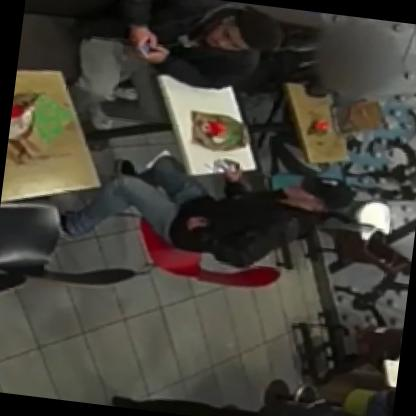Human Body: (37, 138, 362, 286), (61, 0, 285, 107)
